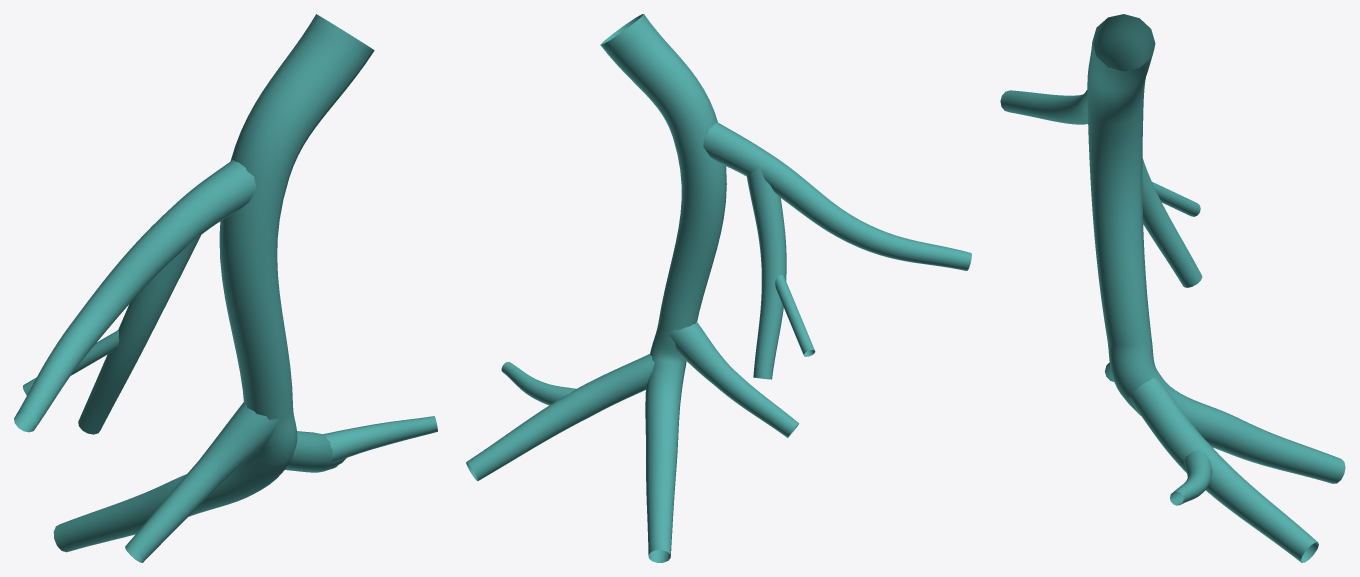
3 views of the same model, side by side, from view 1: azimuth 30°, elevation 25°; view 2: azimuth 150°, elevation 25°; view 3: azimuth 270°, elevation 25° (orthographic). The views are drawn at different scales.
Parts seen in each view (by area): view 1: 右肺前段支气管（第3段）; view 2: 右肺前段支气管（第3段）; view 3: 右肺前段支气管（第3段）.
Boxes of the visible parts, x1,y1,x2,y2 form: 右肺前段支气管（第3段）: [14, 14, 437, 562]; 右肺前段支气管（第3段）: [466, 14, 971, 562]; 右肺前段支气管（第3段）: [1000, 14, 1345, 562].
Size of the model in its own units: 0.1077 by 0.1171 by 0.069.
